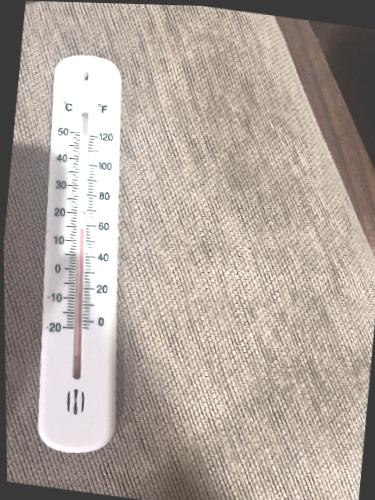thermo: (29, 52, 138, 452)
